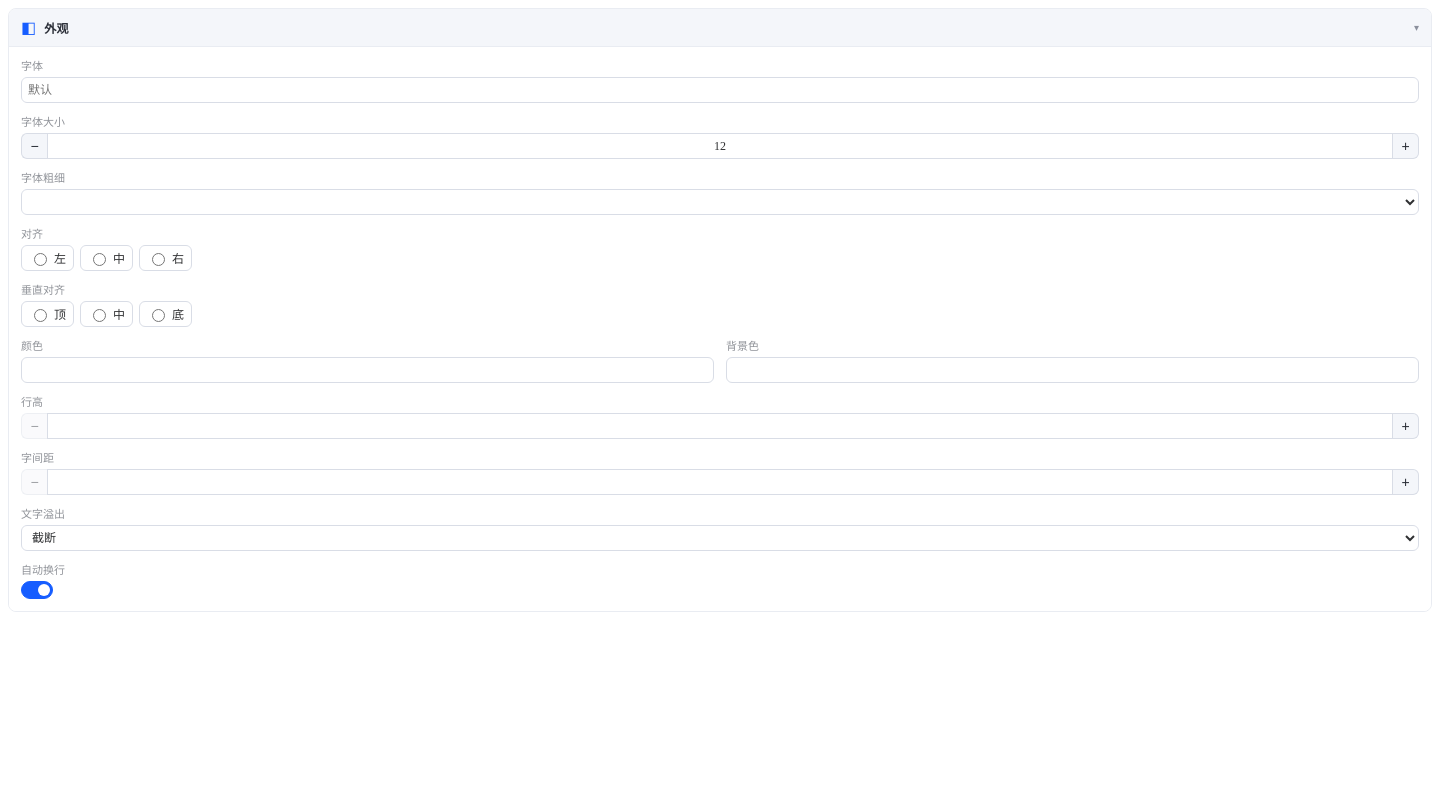
it: AppearanceGroup 文字溢出显示形式 › 最小字号仅在选择「自动缩小」时出现
The width and height of the screenshot is (1440, 810).
Expected: the text "最小字号" is not shown
Select "自动缩小" in the dropdown below "文字溢出": (720, 538) [21,525,1419,551]
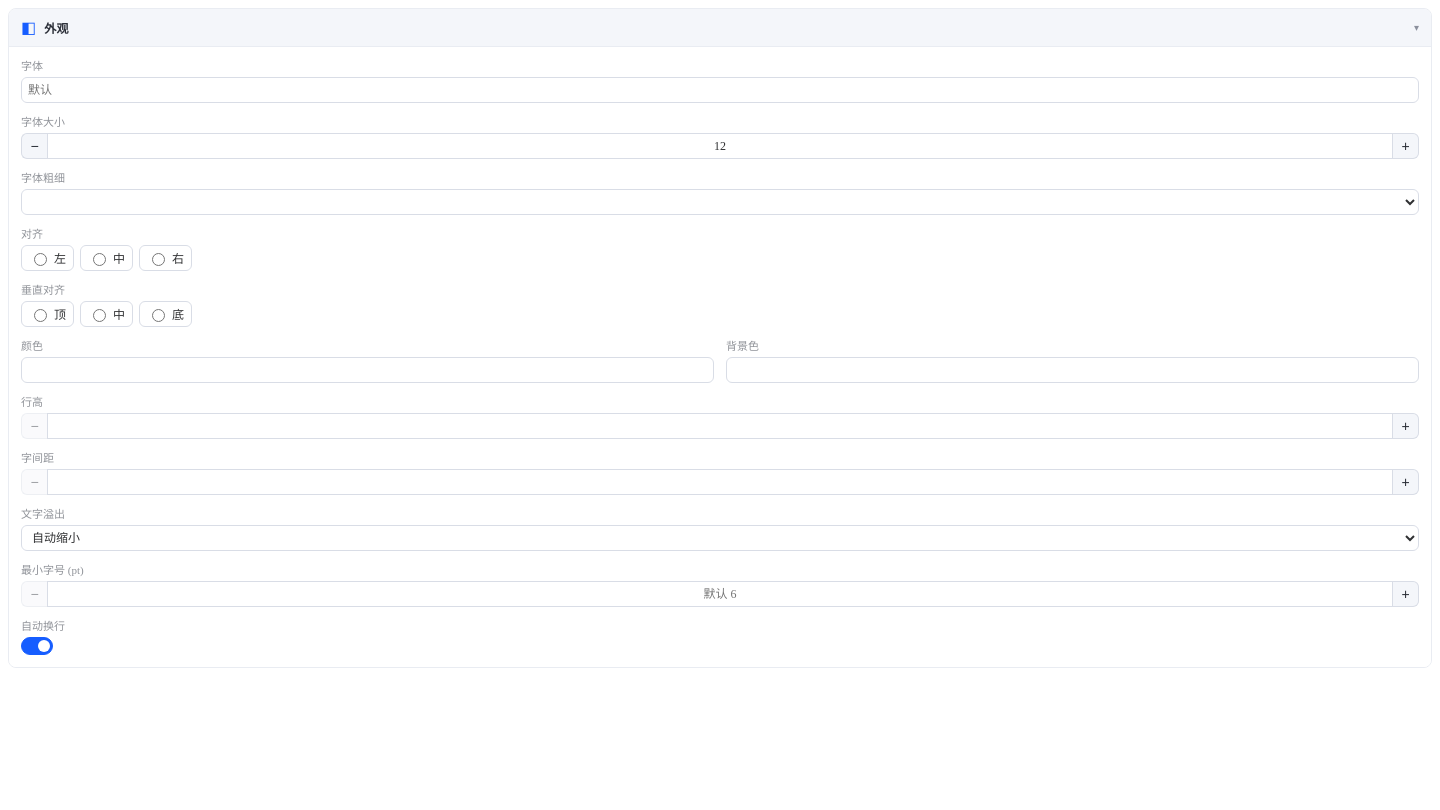
Expected: the text "最小字号" is shown, [21,564,84,576]
